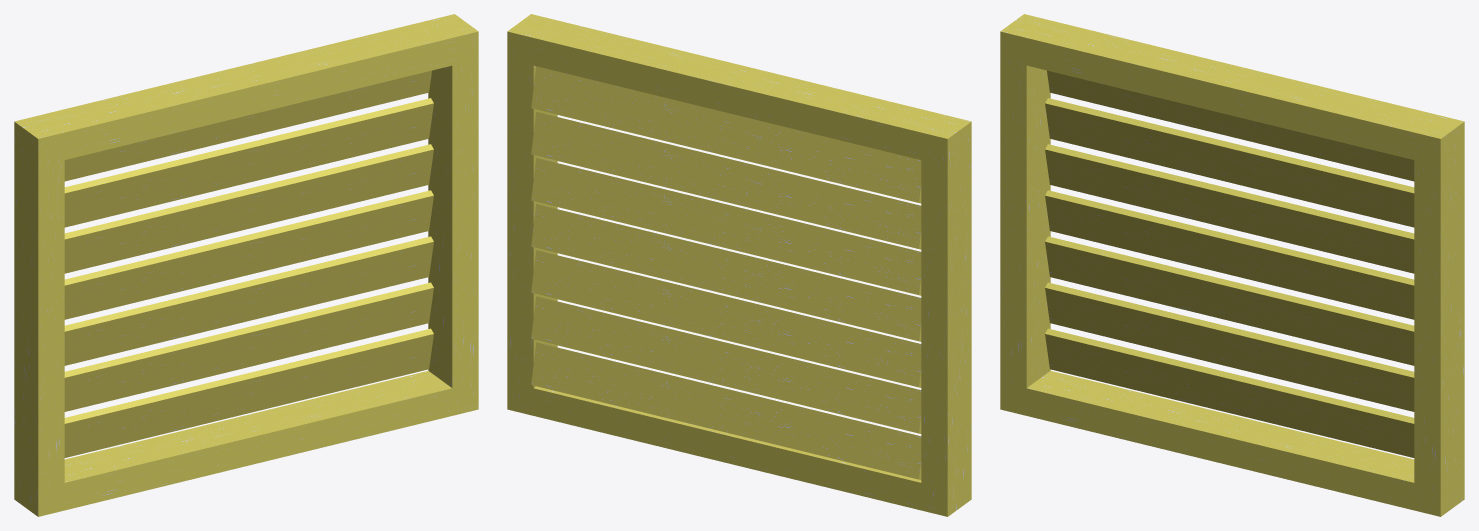
File: window.fbx
3 views of the same model, side by side, from view 1: azimuth 30°, elevation 25°; view 2: azimuth 150°, elevation 25°; view 3: azimuth 330°, elevation 25° (orthographic).
Parts seen in each view (by area): view 1: 立方體.001; view 2: 立方體.001; view 3: 立方體.001.
Boxes of the visible parts, box(x1,y1,x2,y2) form: 立方體.001: box(14, 14, 478, 516); 立方體.001: box(507, 14, 971, 516); 立方體.001: box(1000, 14, 1464, 516).
Bounding box in the file's own units: 56.17 × 46.04 × 5.81.
